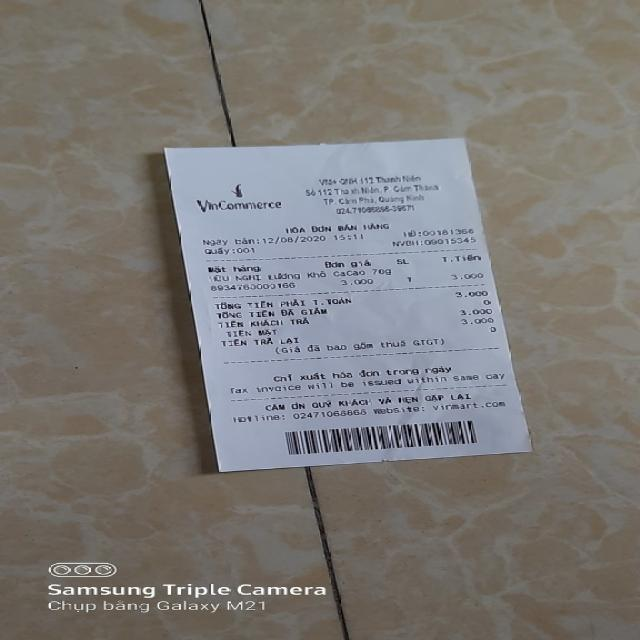Date: (260, 235, 328, 244)
Store_Name: (192, 199, 286, 213)
amount_number: (454, 290, 489, 298)
label_total: (212, 297, 357, 310)
